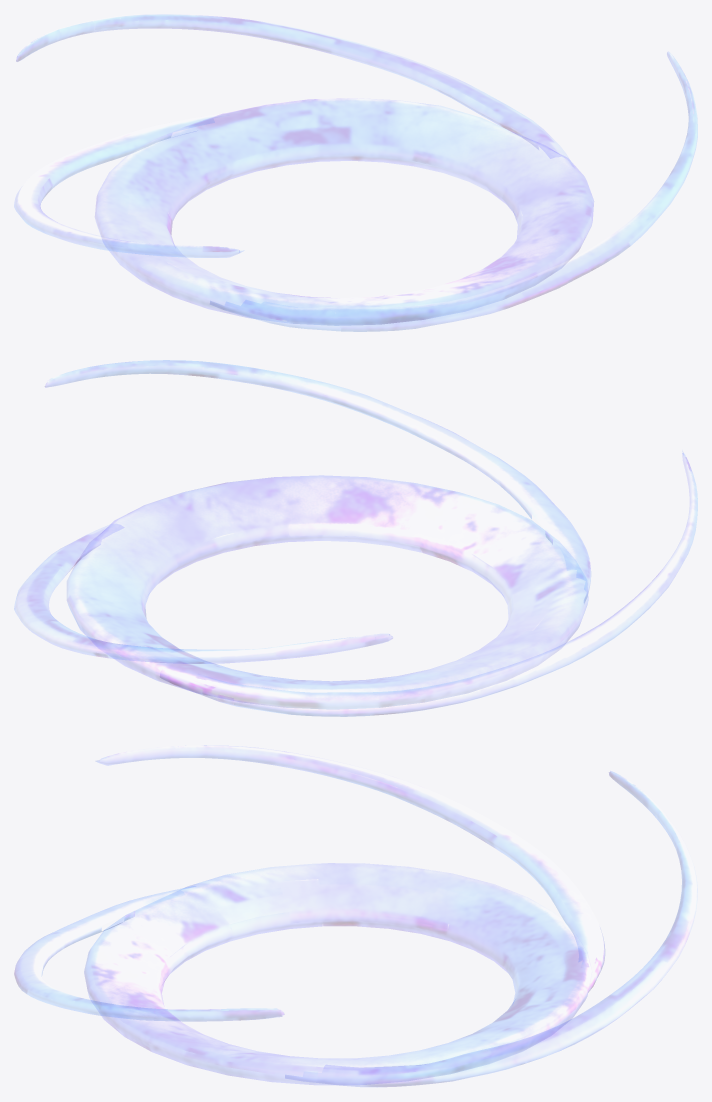
File: SwirlRing.glb
The picture shows the model from 3 angles, top to bottom: view 1: azimuth 30°, elevation 25°; view 2: azimuth 150°, elevation 25°; view 3: azimuth 270°, elevation 25°; orthographic projection. The views are drawn at different scales.
Visible parts, largest first — view 1: Retopo_环体.001; view 2: Retopo_环体.001; view 3: Retopo_环体.001.
Part boxes in pixels (x1,y1,x2,y2): Retopo_环体.001: (14,14,697,331); Retopo_环体.001: (14,360,697,716); Retopo_环体.001: (14,745,697,1086).
Size of what is drawn, in the model's own units: 9.24 by 2.03 by 8.93.
Materials: 1 (1 with a texture image).
